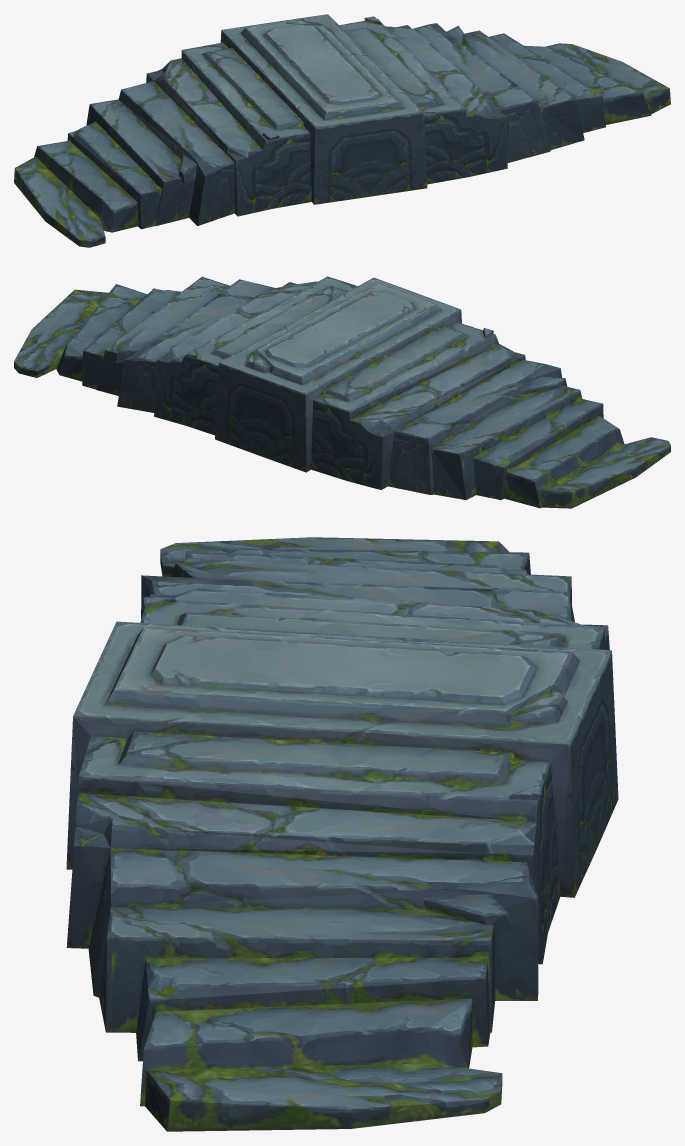
The model's file is fb_tys_zj_06_c.FBX.
3 views of the same model, one above another, from view 1: azimuth 30°, elevation 25°; view 2: azimuth 150°, elevation 25°; view 3: azimuth 270°, elevation 25° (orthographic). The views are drawn at different scales.
Visible parts, largest first — view 1: fb_tys_zj_06_c; view 2: fb_tys_zj_06_c; view 3: fb_tys_zj_06_c.
Boxes of the visible parts, x1,y1,x2,y2 form: fb_tys_zj_06_c: (14, 14, 670, 247); fb_tys_zj_06_c: (14, 276, 670, 508); fb_tys_zj_06_c: (66, 537, 618, 1131).
Size of the model in its own units: 1553 by 211 by 630.
